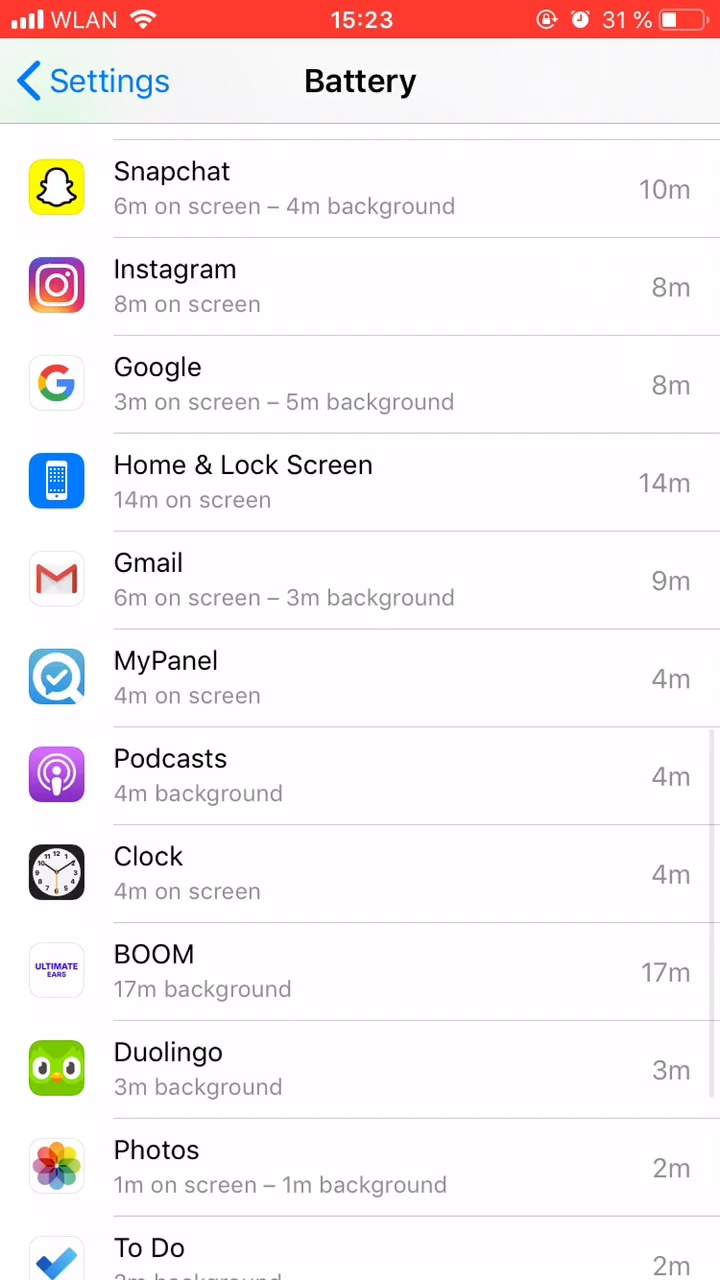app: (33, 152, 709, 222), (24, 252, 700, 322), (34, 347, 710, 417), (20, 445, 696, 515), (18, 443, 694, 513), (23, 548, 699, 618), (26, 644, 702, 714), (24, 642, 700, 712), (22, 744, 698, 814), (20, 742, 696, 812), (27, 838, 703, 908), (22, 940, 698, 1010), (22, 1034, 698, 1104), (27, 1139, 703, 1209), (25, 1137, 701, 1207)
